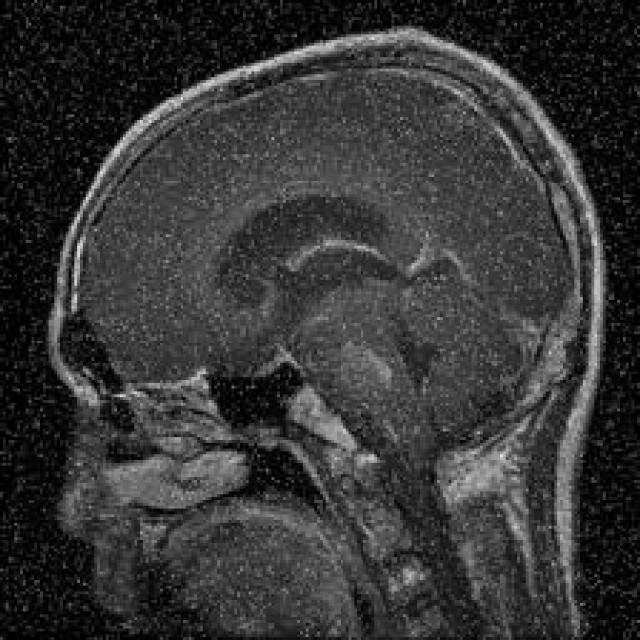glioma_tumor: (313, 315, 414, 425)
